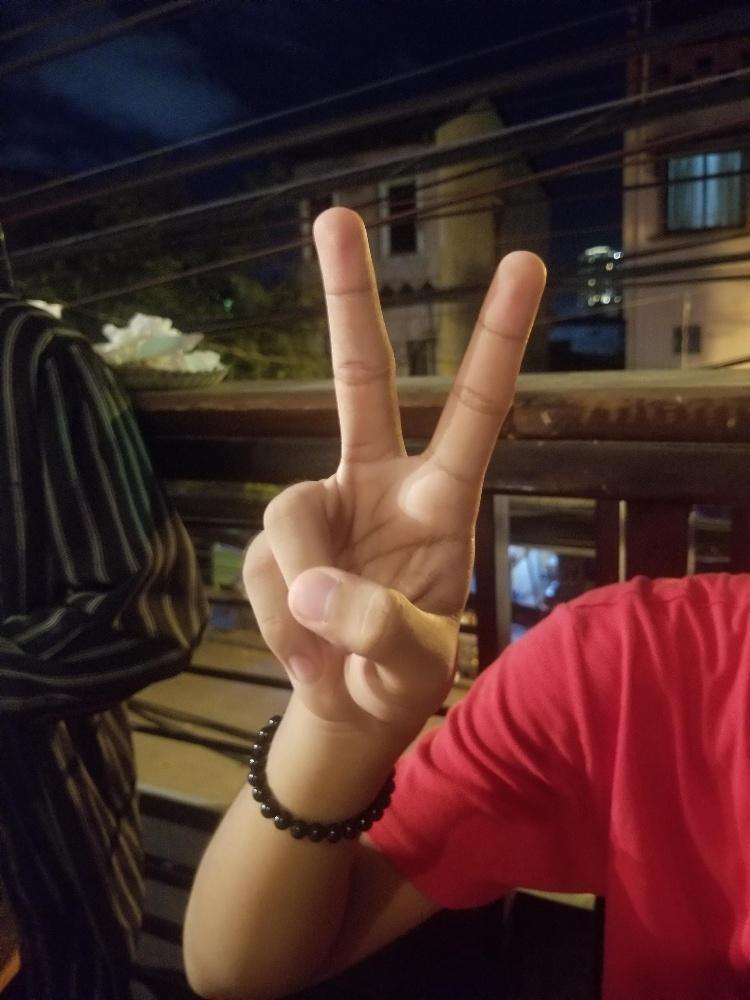v: (241, 207, 547, 729)
